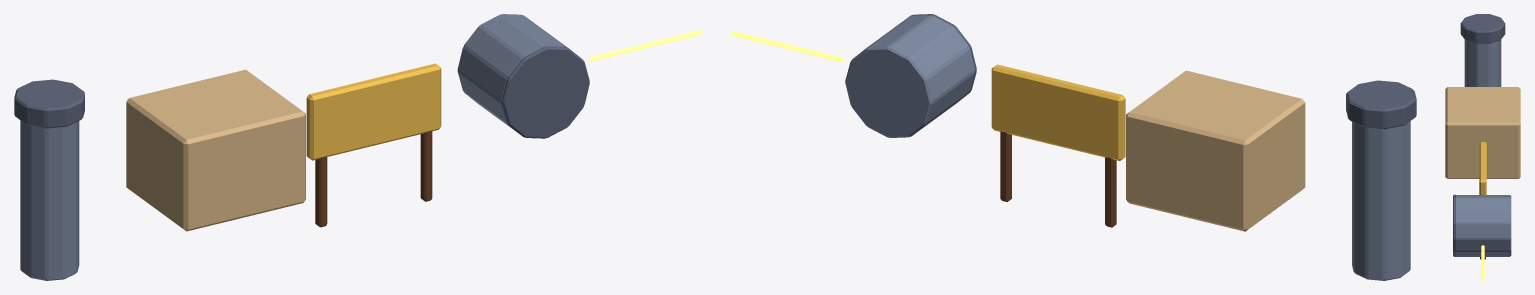
File: SM_Building_TierKit.fbx
The picture shows the model from 3 angles, left to right: view 1: azimuth 30°, elevation 25°; view 2: azimuth 150°, elevation 25°; view 3: azimuth 270°, elevation 25°; orthographic projection. The views are drawn at different scales.
Parts seen in each view (by area): view 1: SM_addon_wing, SM_addon_chimney, SM_addon_tank, SM_addon_sign, SM_addon_lights; view 2: SM_addon_wing, SM_addon_chimney, SM_addon_tank, SM_addon_sign, SM_addon_lights; view 3: SM_addon_wing, SM_addon_tank, SM_addon_chimney, SM_addon_sign, SM_addon_lights.
Part boxes in pixels (bbox=[...]): SM_addon_wing: bbox=[126, 69, 305, 231]; SM_addon_chimney: bbox=[14, 79, 84, 280]; SM_addon_tank: bbox=[457, 14, 589, 138]; SM_addon_sign: bbox=[306, 63, 441, 227]; SM_addon_lights: bbox=[588, 30, 702, 61]; SM_addon_wing: bbox=[1126, 70, 1305, 231]; SM_addon_chimney: bbox=[1346, 80, 1416, 280]; SM_addon_tank: bbox=[845, 14, 976, 137]; SM_addon_sign: bbox=[991, 64, 1125, 227]; SM_addon_lights: bbox=[731, 31, 844, 62]; SM_addon_wing: bbox=[1445, 87, 1520, 178]; SM_addon_tank: bbox=[1453, 194, 1511, 256]; SM_addon_chimney: bbox=[1460, 14, 1505, 86]; SM_addon_sign: bbox=[1479, 142, 1486, 259]; SM_addon_lights: bbox=[1481, 245, 1484, 280].
Size of the model in its own units: 7.79 by 2.16 by 1.2.
